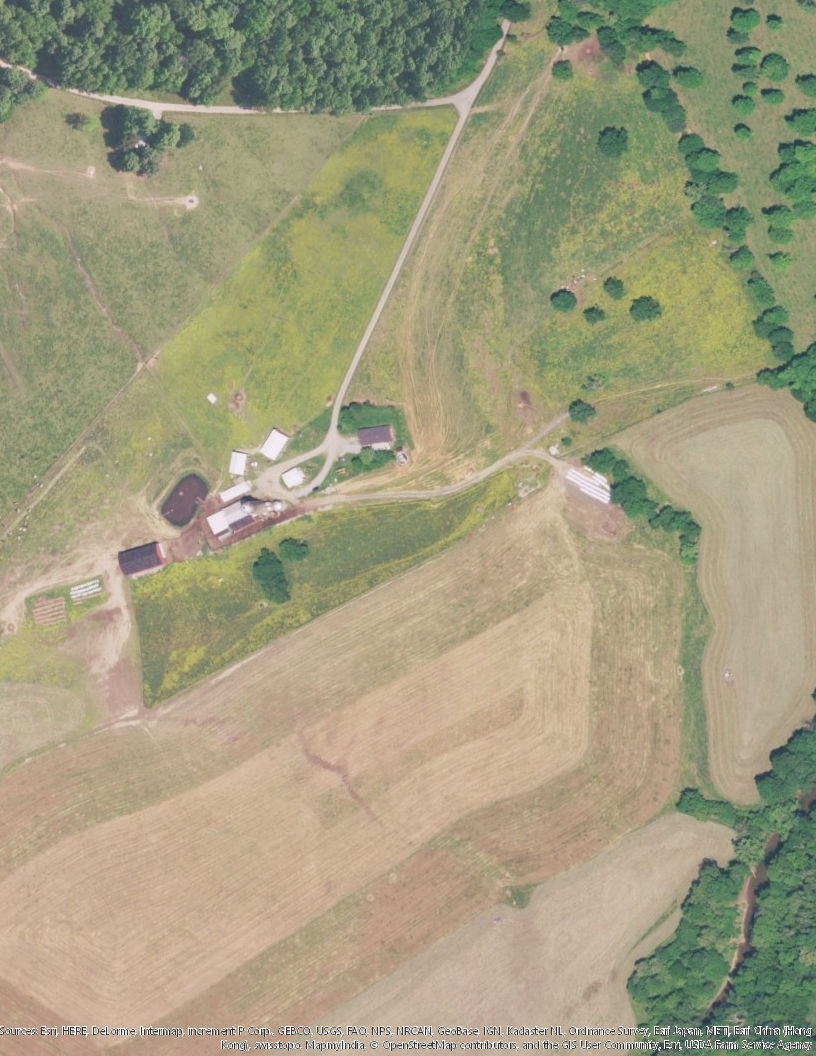cafo: (205, 498, 251, 536), (259, 428, 291, 461), (220, 482, 253, 503), (229, 451, 251, 477)
